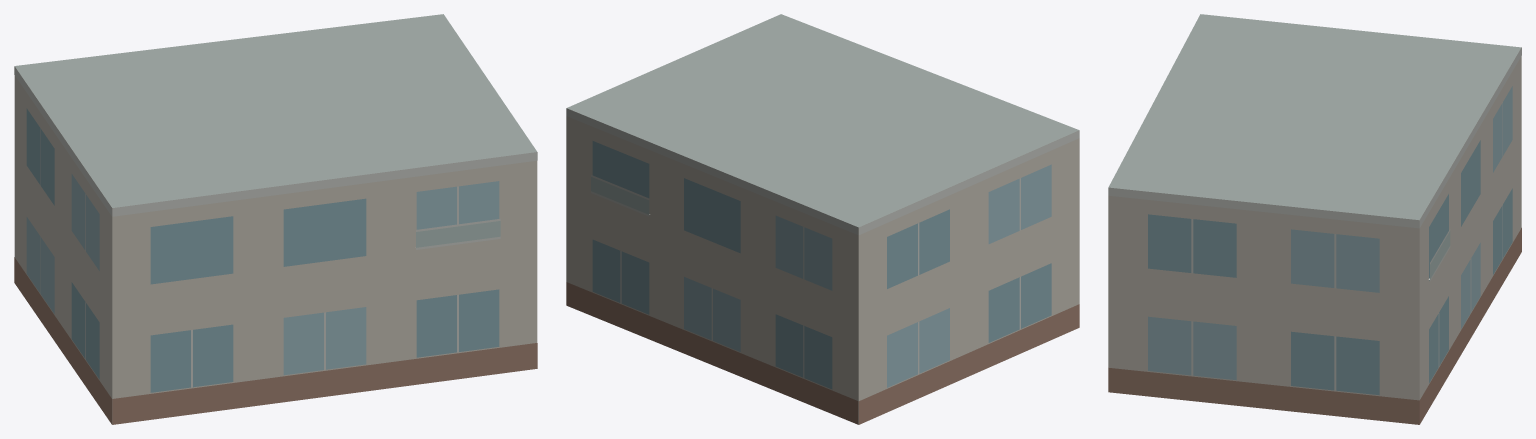
The model's file is survey-upis-32672928.glb.
3 renders of one model, left to right at view 1: azimuth 30°, elevation 25°; view 2: azimuth 150°, elevation 25°; view 3: azimuth 270°, elevation 25°, orthographic. The views are drawn at different scales.
Parts seen in each view (by area): view 1: survey-upis-32672928.tmp; view 2: survey-upis-32672928.tmp; view 3: survey-upis-32672928.tmp.
Part boxes in pixels (box(x1,y1,x2,y2)): survey-upis-32672928.tmp: box(14, 14, 537, 424); survey-upis-32672928.tmp: box(566, 14, 1079, 424); survey-upis-32672928.tmp: box(1108, 14, 1521, 424).
Bounding box in the file's own units: 13.19 × 6.1 × 11.18.
